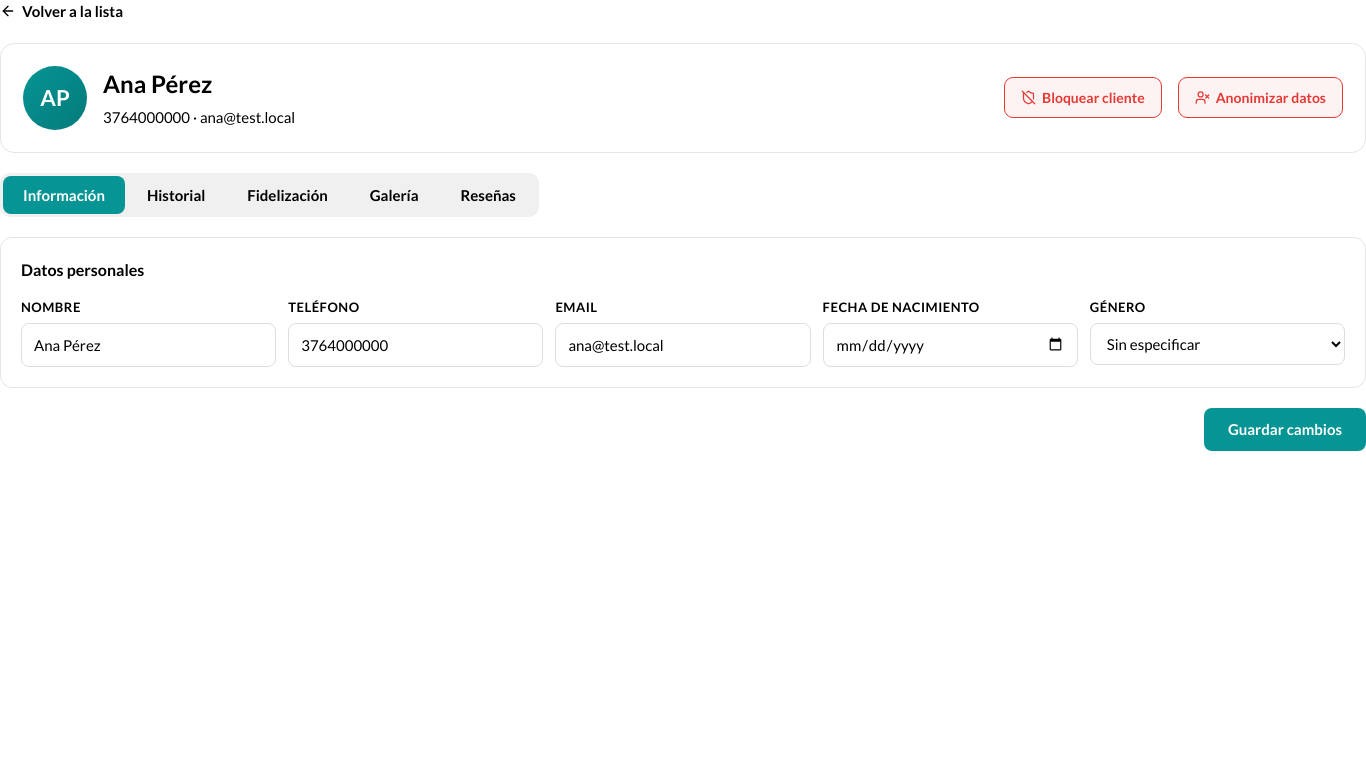
Test case: ClientDetail: anonimizar datos de la clienta › pide confirmación y no anonimiza hasta que se confirma
Click the button "Anonimizar datos". click: point(1260, 98)
box: [1178,77,1343,118]
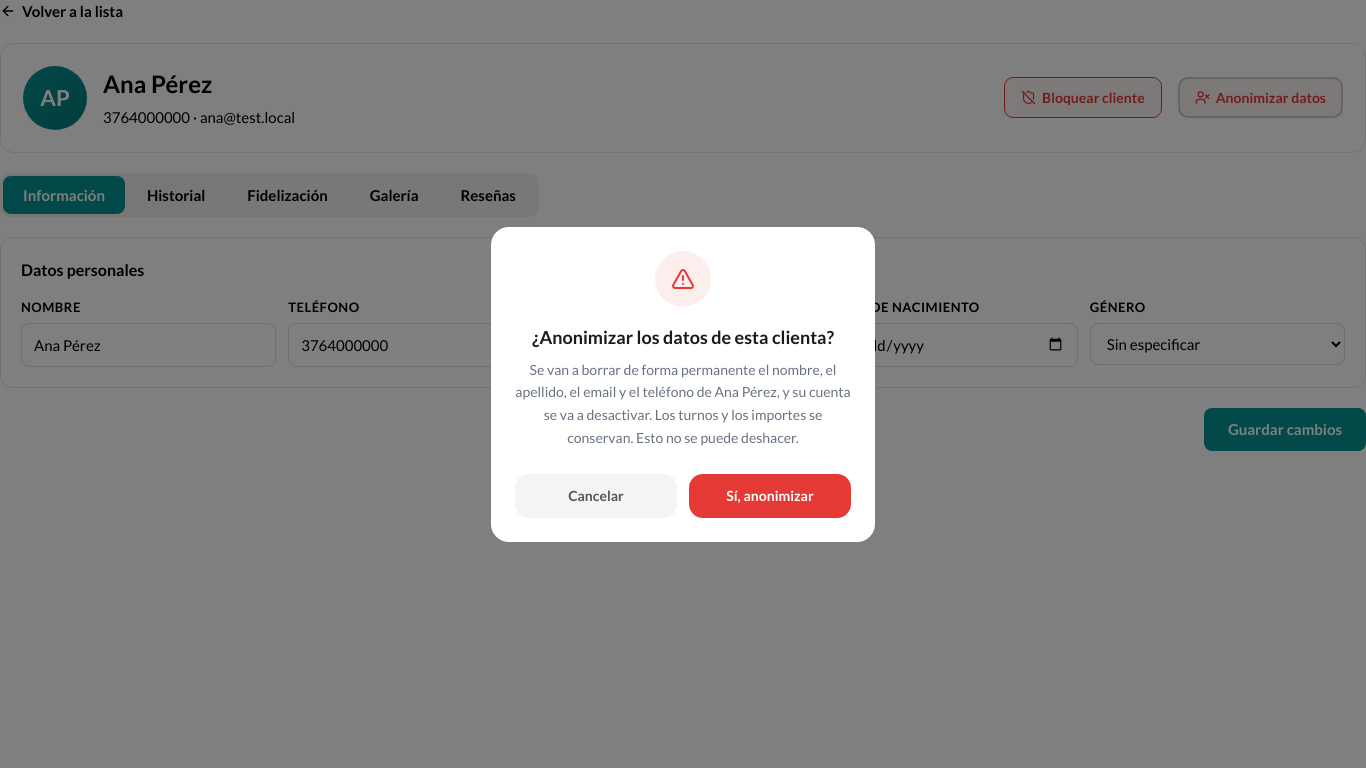
Now the heading "¿Anonimizar los datos de esta clienta?" is shown, box [515,322,851,350]
Click the button "Cancelar". click: point(596, 496)
box: [515,474,677,518]
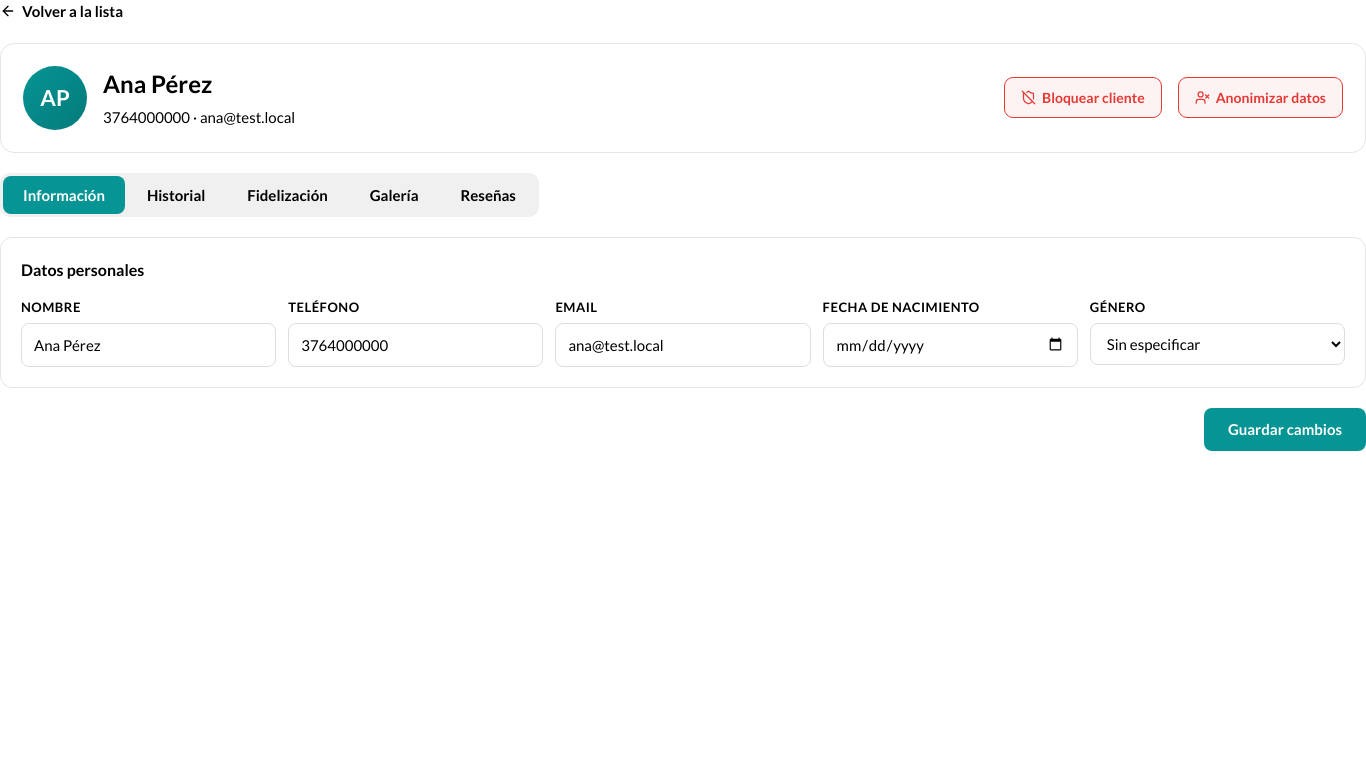
Now the heading "¿Anonimizar los datos de esta clienta?" is gone
